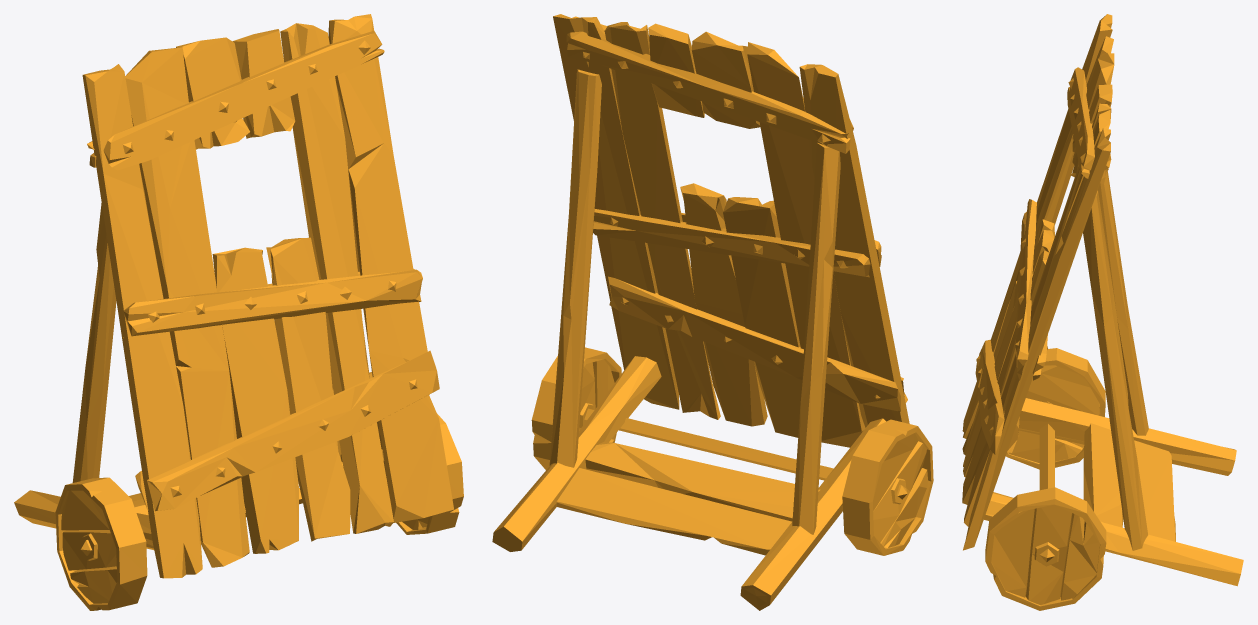
Rendered from SM_Barricade_Wheeled.fbx.
3 views of the same model, side by side, from view 1: azimuth 30°, elevation 25°; view 2: azimuth 150°, elevation 25°; view 3: azimuth 270°, elevation 25° (orthographic). The views are drawn at different scales.
Parts seen in each view (by area): view 1: barricade-wheeled-base, barricade-wheeled-wheels; view 2: barricade-wheeled-base, barricade-wheeled-wheels; view 3: barricade-wheeled-base, barricade-wheeled-wheels.
Part boxes in pixels (left/top/right/bottom): barricade-wheeled-base: left=14, top=14, right=453, bottom=578; barricade-wheeled-wheels: left=55, top=413, right=463, bottom=610; barricade-wheeled-base: left=492, top=14, right=909, bottom=610; barricade-wheeled-wheels: left=531, top=347, right=933, bottom=555; barricade-wheeled-base: left=962, top=14, right=1243, bottom=586; barricade-wheeled-wheels: left=985, top=348, right=1106, bottom=610.
Bounding box in the file's own units: 1.74 × 2.39 × 1.31.
